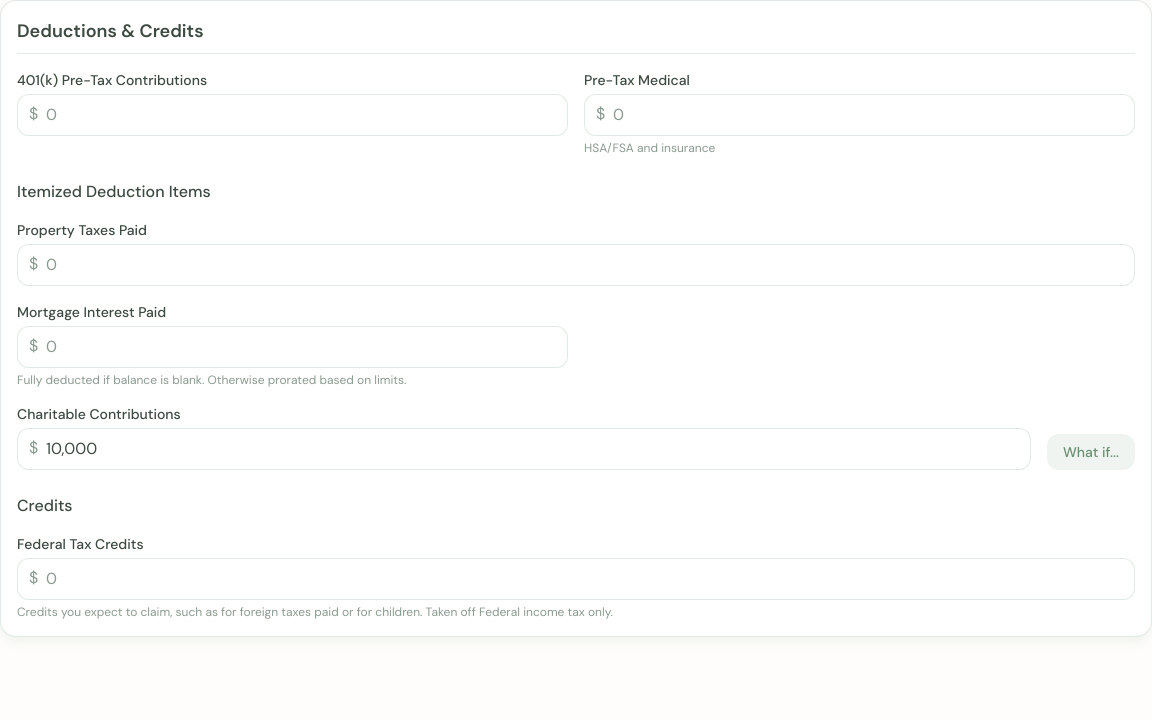
it: DeductionInputs › charitable what-if button › applies an amount chosen in the tool to the field
Click the button "What if..." at (1091, 452), box [1047,434,1135,470]
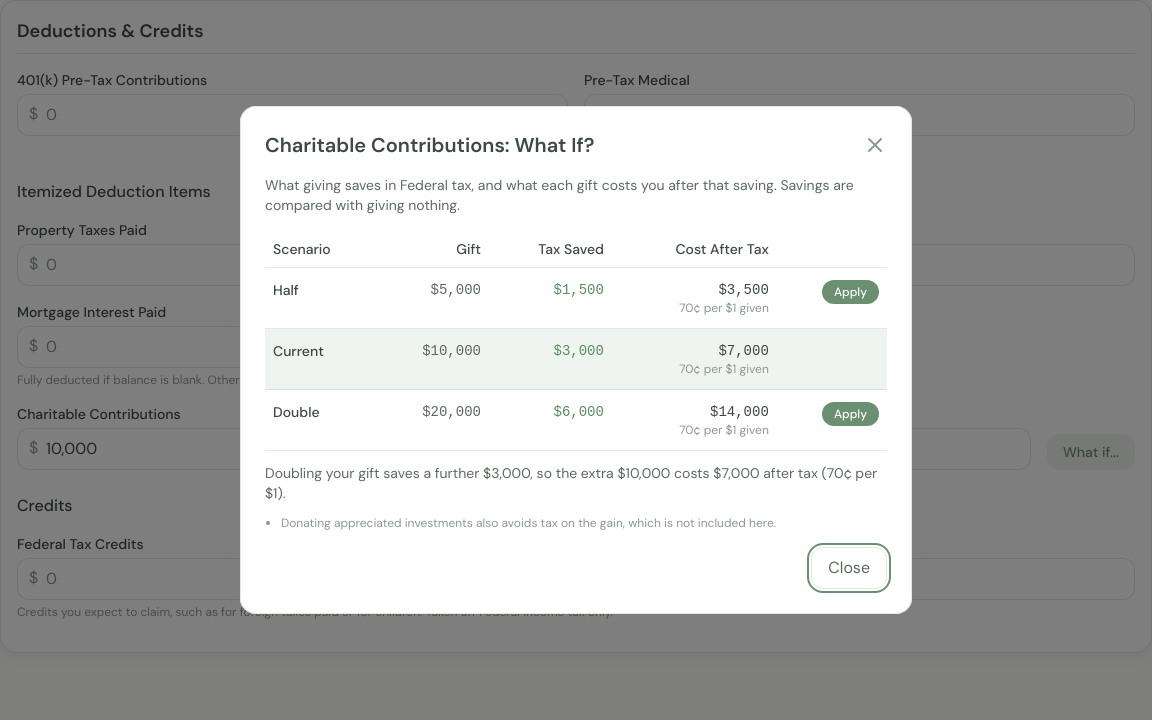
Click the button with aria-label "Use $20,000" at (850, 414), box [822,402,879,426]
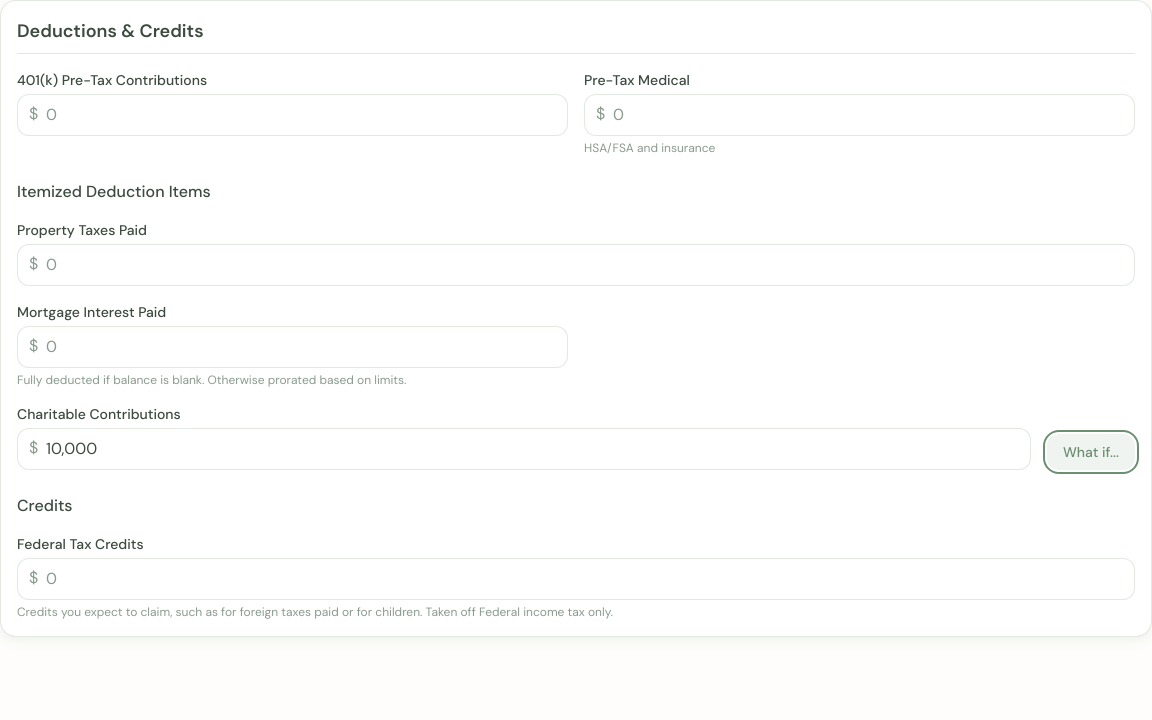
Result: the dialog is gone
